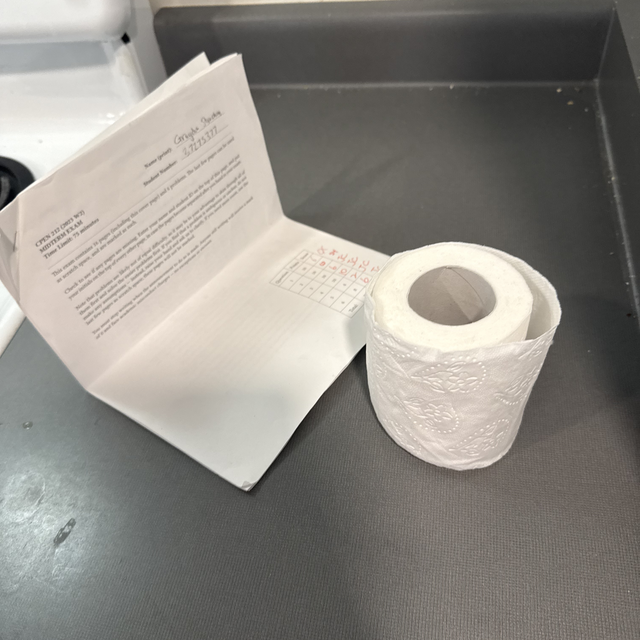Paper: (19, 65, 408, 478)
Toilet Paper: (353, 202, 553, 465)
